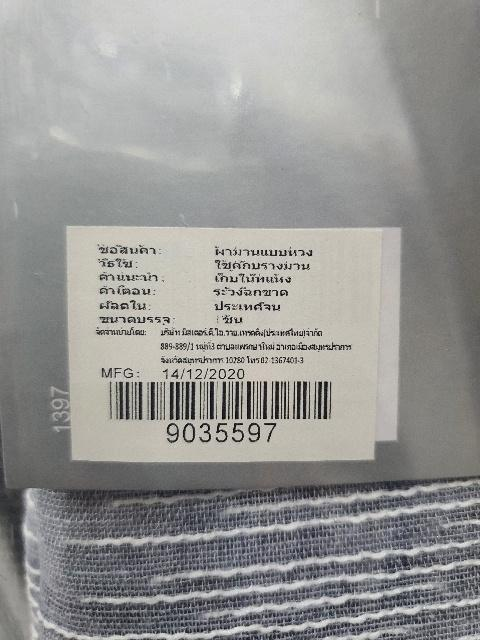Barcode: (101, 375, 345, 445)
